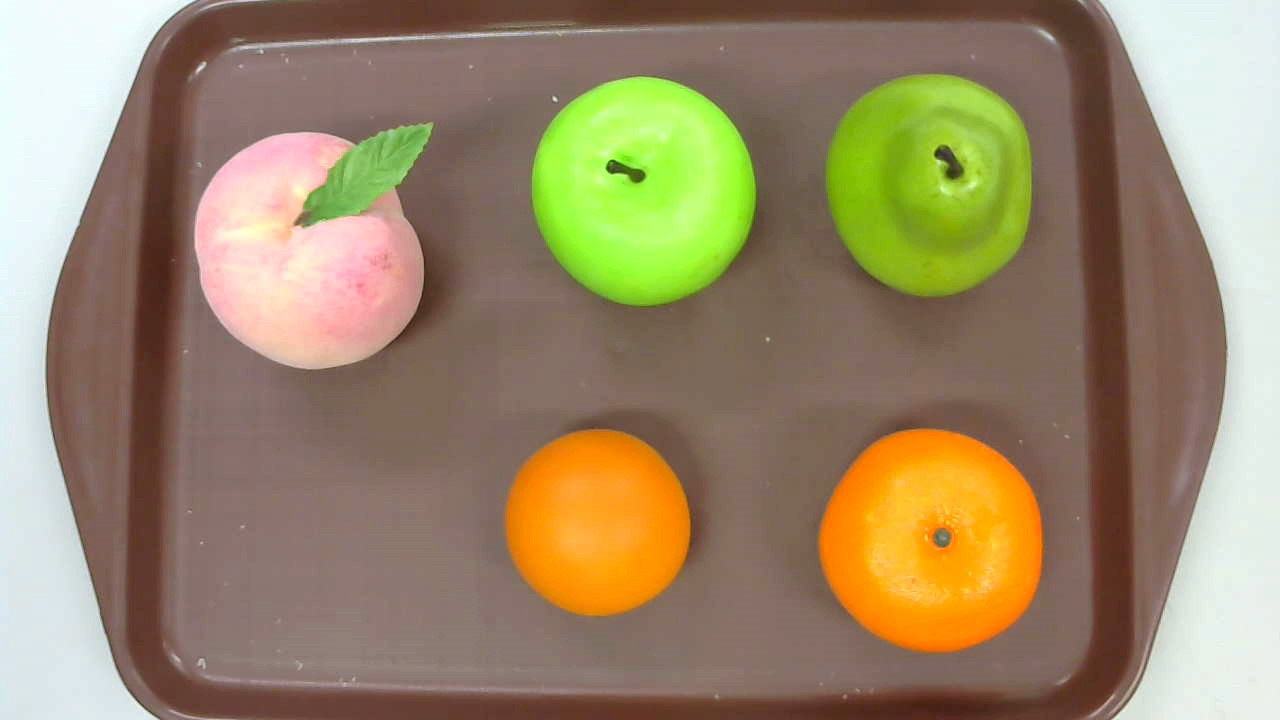bun: (504, 428, 691, 616)
green apple: (531, 76, 756, 306)
green pear: (825, 73, 1033, 296)
orange: (817, 428, 1042, 653)
peaches: (193, 120, 434, 372)
